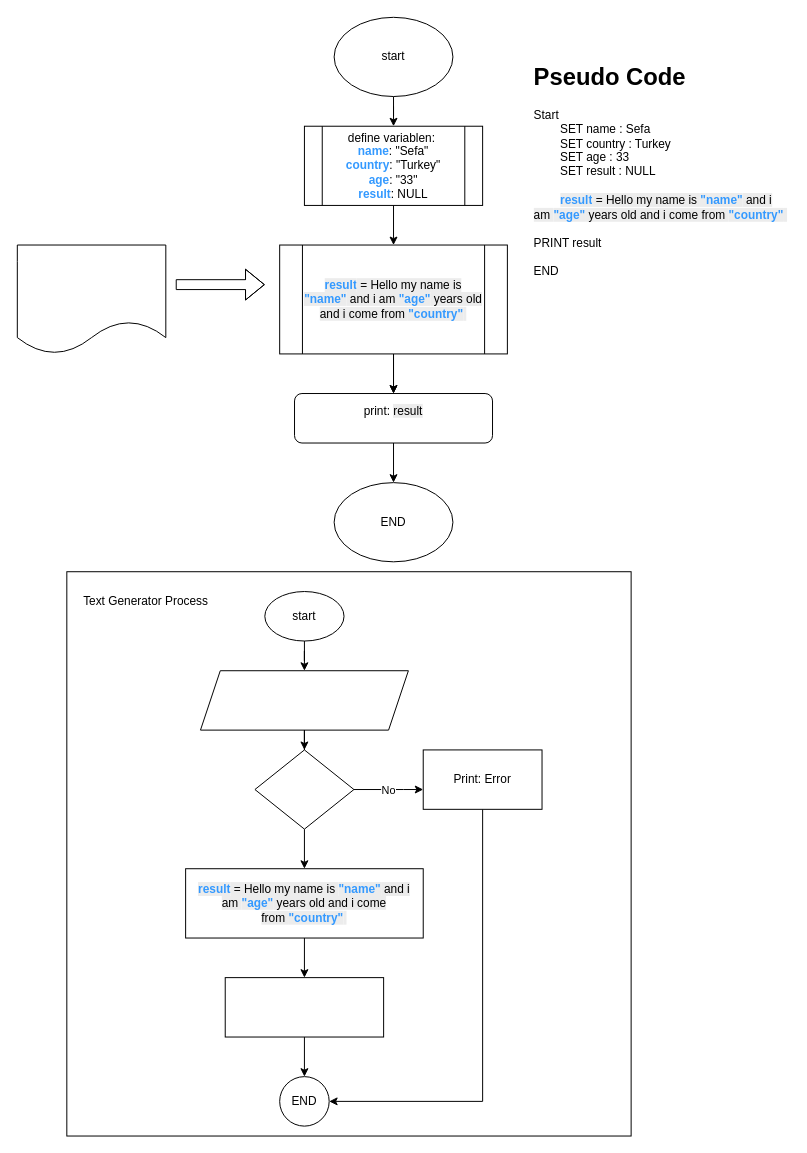
Image size: 807x1153. Some labels were removed from this diagram. Here are the shapes that lost their labels. From the top down, the centre of each, then its label:
At [91,299]: "Process: means when your app shall do something itself".
At [303,700]: "input : name , country , age".
At [304,789]: "all input exists".
At [304,1007]: "Print result".
